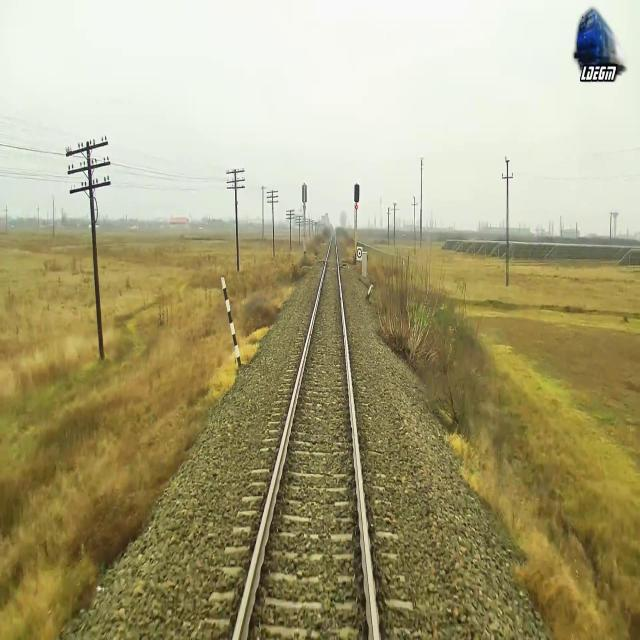rail-track: (237, 233, 374, 639)
